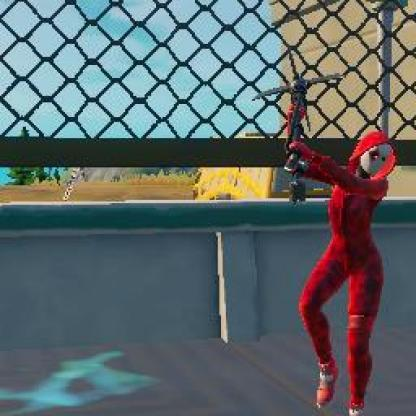Player: (288, 104, 398, 416)
